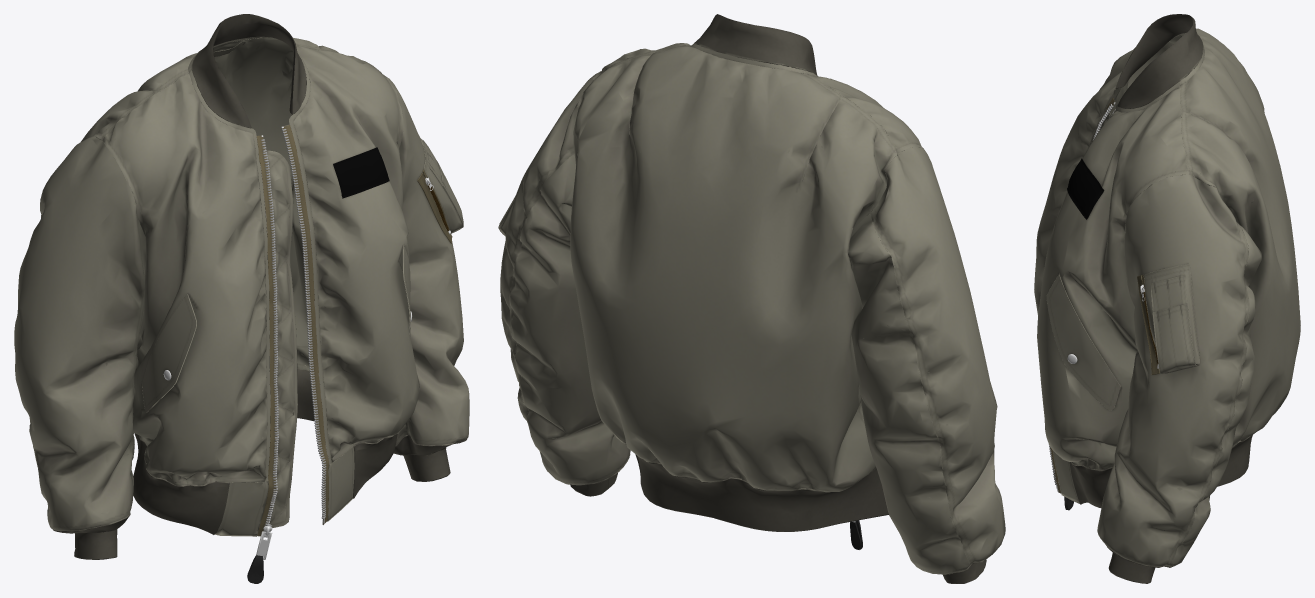
The model's file is MA-1_fix_jpg.glb.
3 renders of one model, left to right at view 1: azimuth 30°, elevation 25°; view 2: azimuth 150°, elevation 25°; view 3: azimuth 270°, elevation 25°, orthographic. The views are drawn at different scales.
Parts seen in each view (by area): view 1: Cloth, BindedTrim_228205; view 2: Cloth; view 3: Cloth, BindedTrim_228205.
Boxes of the visible parts, x1,y1,x2,y2 form: Cloth: (14, 14, 469, 583); BindedTrim_228205: (163, 126, 450, 559); Cloth: (498, 14, 1005, 583); Cloth: (1034, 14, 1300, 583); BindedTrim_228205: (1048, 102, 1158, 491).
Bounding box in the file's own units: 69.43 × 78.12 × 37.15.
16 materials, 1 textured.
